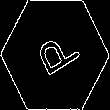P_SW: (28, 26, 82, 84)
